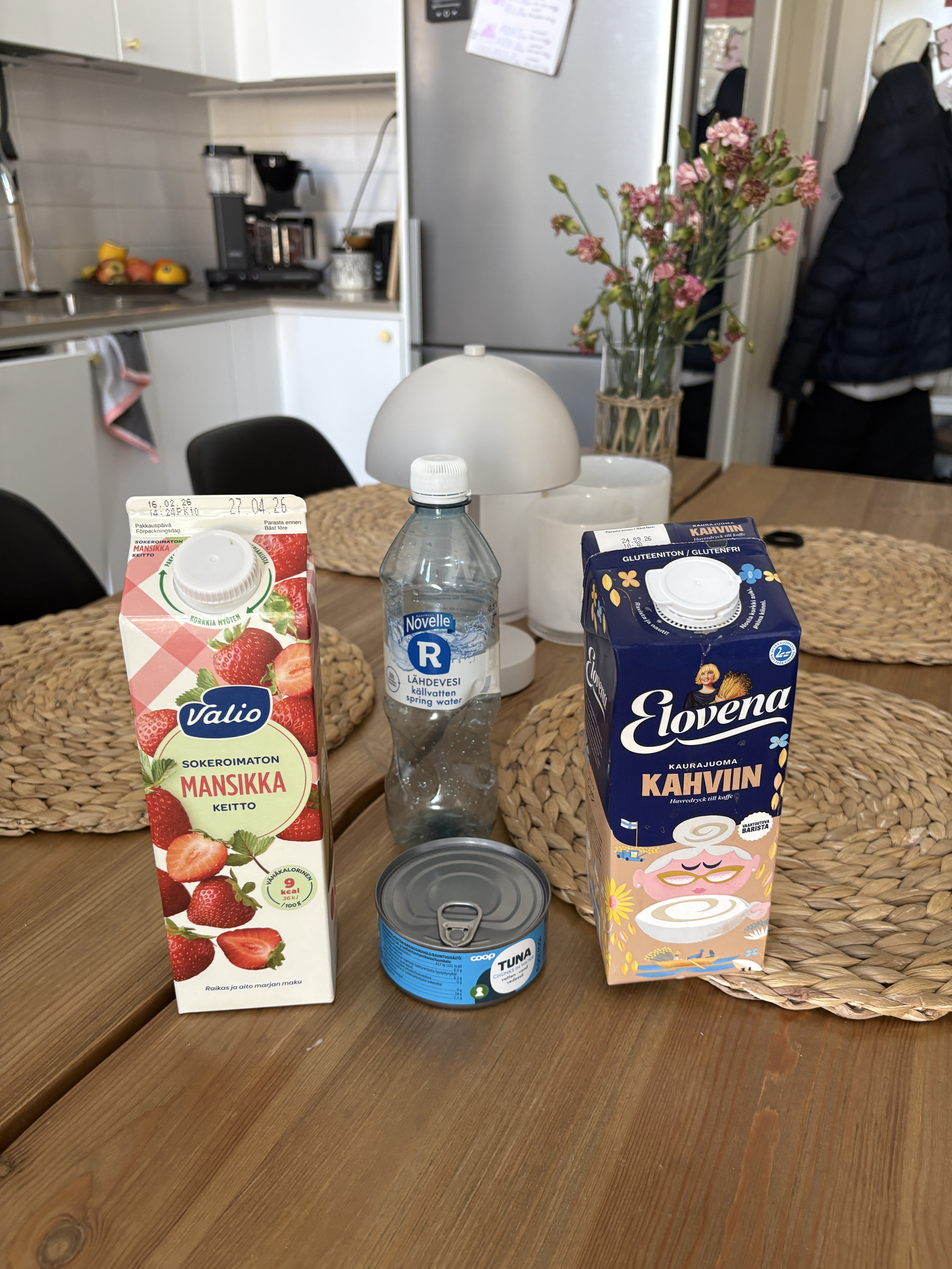Dryckeskartong: (90, 469, 357, 1033), (567, 491, 848, 1006)
Konservburk: (363, 840, 574, 1036)
Pantburk: (360, 434, 553, 838)
